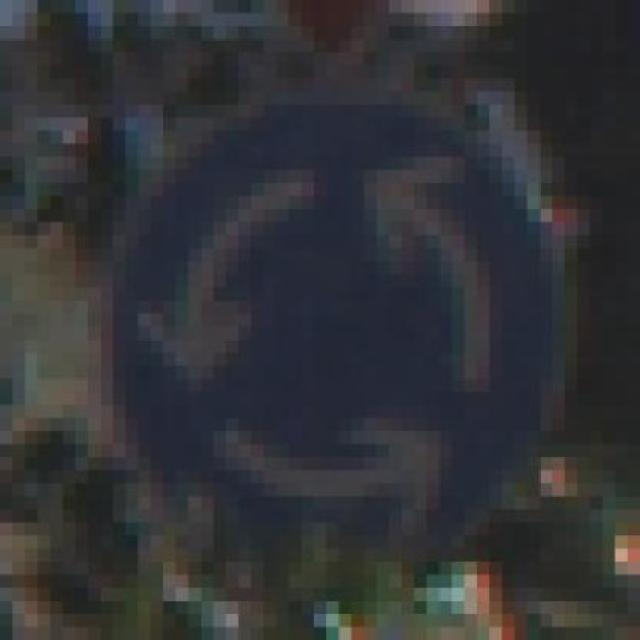Round-About: (50, 52, 602, 600)
